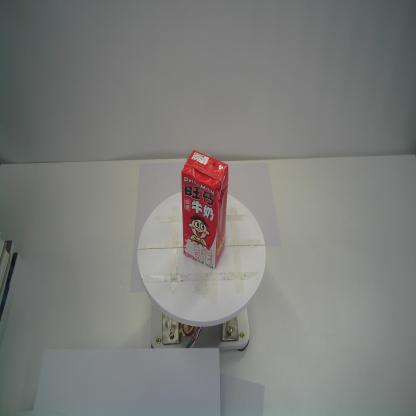Milk: (180, 148, 230, 271)
